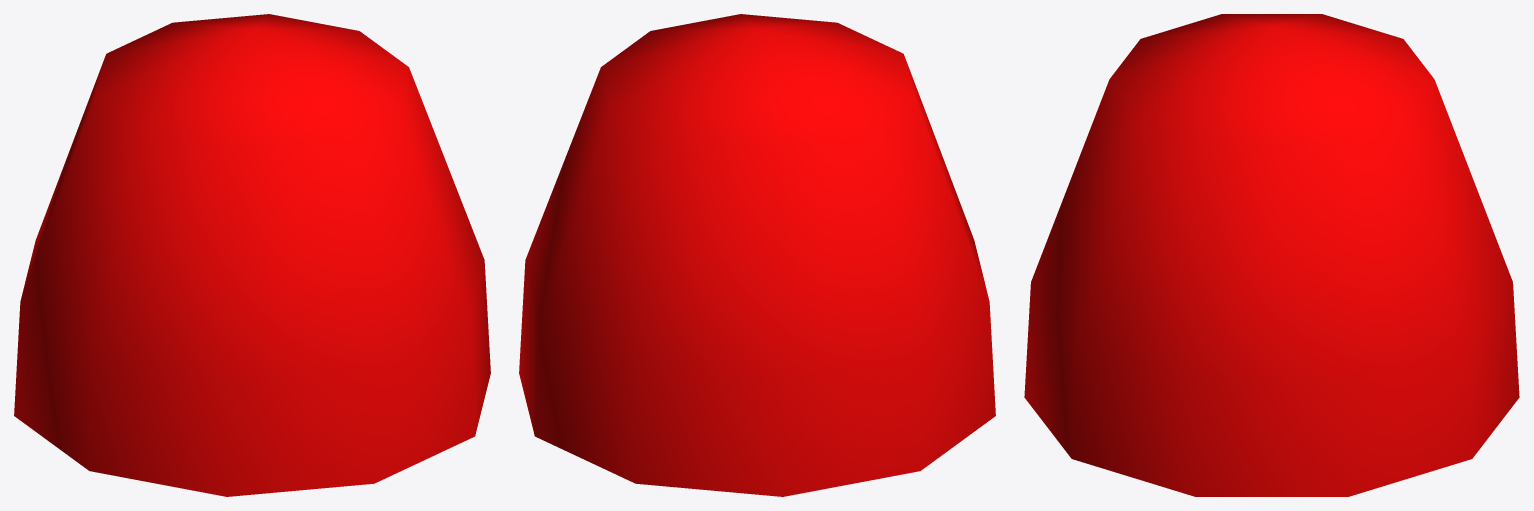
The model's file is SM_Lamp_02.FBX.
The picture shows the model from 3 angles, left to right: view 1: azimuth 30°, elevation 25°; view 2: azimuth 150°, elevation 25°; view 3: azimuth 270°, elevation 25°; orthographic projection.
Visible parts, largest first — view 1: SM_Lamp_02; view 2: SM_Lamp_02; view 3: SM_Lamp_02.
Part boxes in pixels (x1,y1,x2,y2): SM_Lamp_02: (14,14,490,496); SM_Lamp_02: (519,14,995,496); SM_Lamp_02: (1024,14,1519,496).
Bounding box in the file's own units: 19.54 × 20.54 × 16.96.
